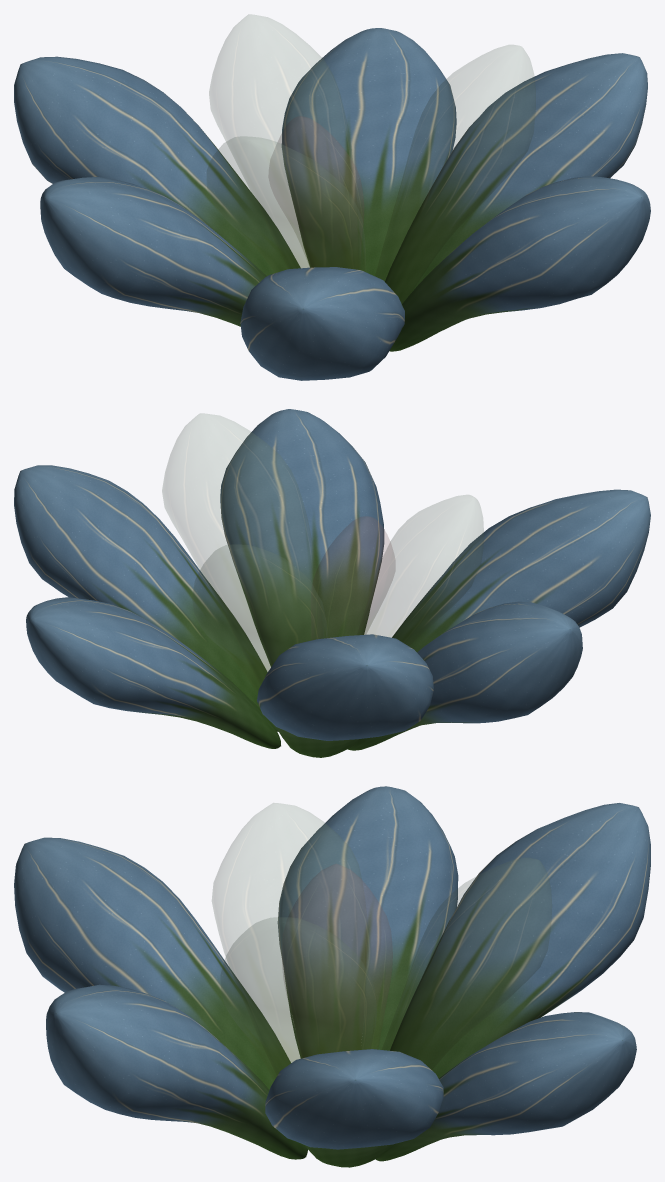
File: 02-juvenile.glb
3 renders of one model, top to bottom at view 1: azimuth 30°, elevation 25°; view 2: azimuth 150°, elevation 25°; view 3: azimuth 270°, elevation 25°, orthographic. The views are drawn at different scales.
Parts seen in each view (by area): view 1: 02-juvenile; view 2: 02-juvenile; view 3: 02-juvenile.
Part boxes in pixels (x1,y1,x2,y2): 02-juvenile: (14,14,650,380); 02-juvenile: (14,409,650,757); 02-juvenile: (14,786,650,1167).
Bounding box in the file's own units: 0.2613 × 0.1201 × 0.2302.
3 materials, 3 textured.
